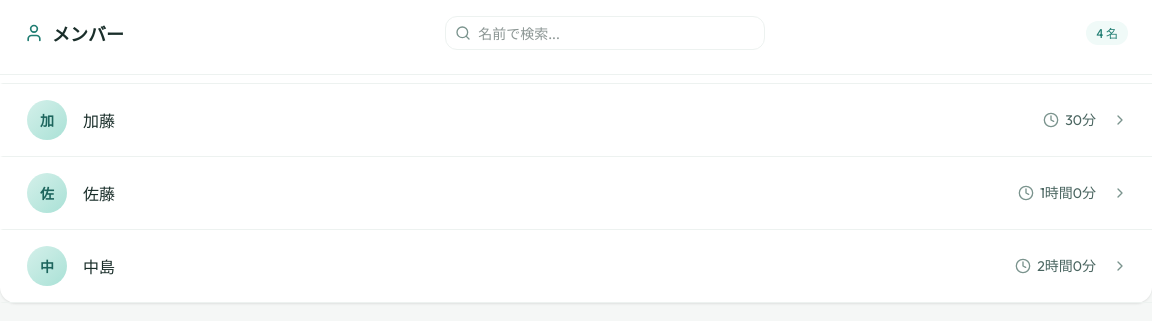
Test: MemberList › インクリメンタルサーチ › 検索結果が0件の場合メッセージが表示されること
Type "存在しない名前" into the field with placeholder "名前で検索..." at (605, 33), box x1=445 y1=16 x2=765 y2=50
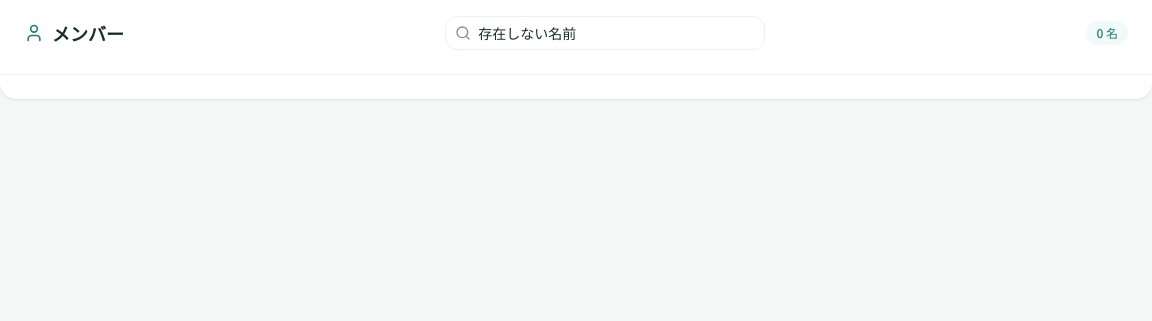
Check: no elements with test id "member-row" are shown
